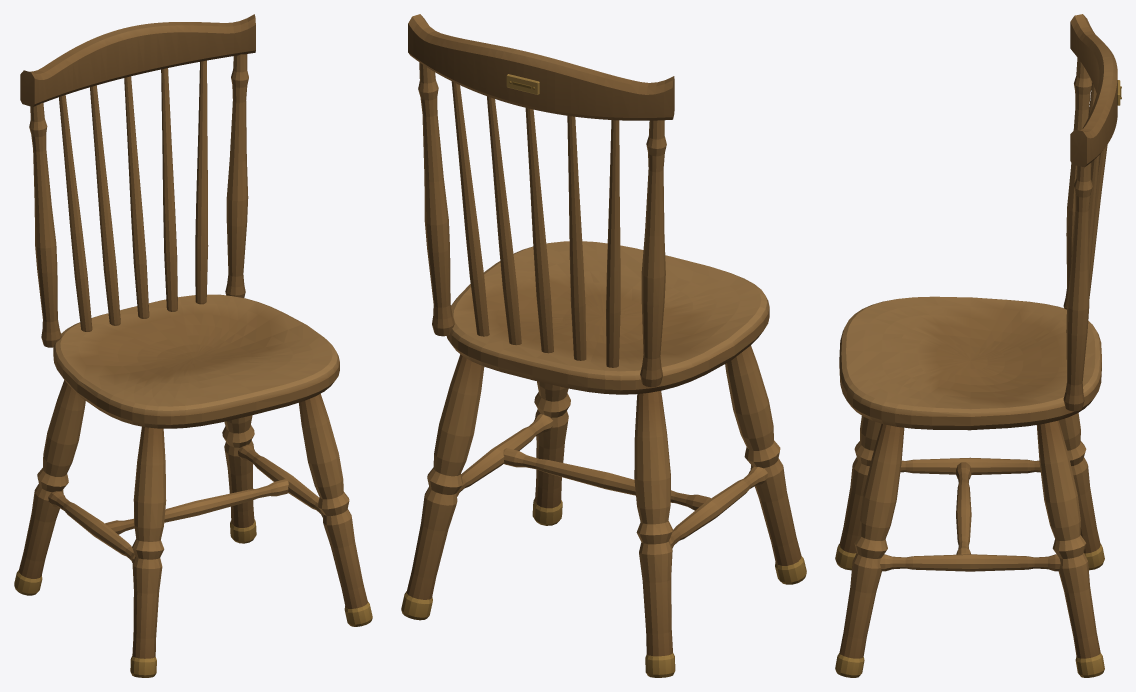
File: library-chair.glb
3 views of the same model, side by side, from view 1: azimuth 30°, elevation 25°; view 2: azimuth 150°, elevation 25°; view 3: azimuth 270°, elevation 25° (orthographic). The views are drawn at different scales.
Parts seen in each view (by area): view 1: library_chair; view 2: library_chair; view 3: library_chair.
Boxes of the visible parts, bbox=[...] form: library_chair: bbox=[14, 14, 372, 677]; library_chair: bbox=[401, 14, 806, 677]; library_chair: bbox=[835, 14, 1121, 677].
Size of the model in its own units: 0.4375 by 0.9279 by 0.4368.
